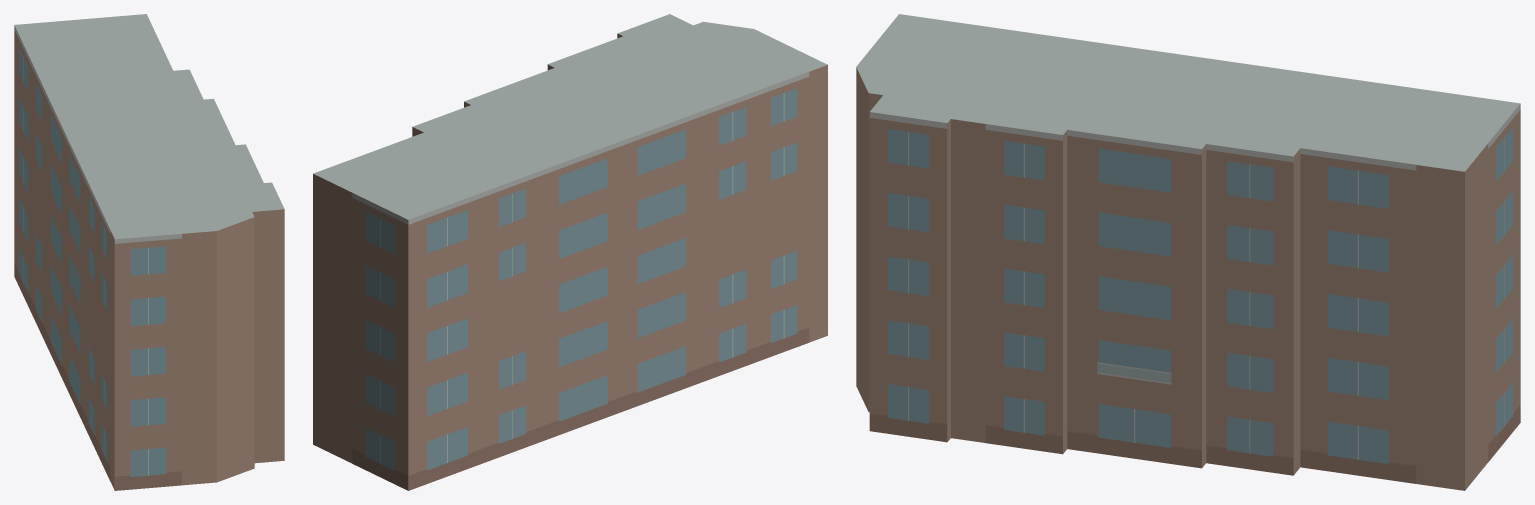
File: survey-upis-32610622.glb
3 renders of one model, left to right at view 1: azimuth 30°, elevation 25°; view 2: azimuth 150°, elevation 25°; view 3: azimuth 270°, elevation 25°, orthographic. The views are drawn at different scales.
Visible parts, largest first — view 1: survey-upis-32610622.tmp; view 2: survey-upis-32610622.tmp; view 3: survey-upis-32610622.tmp.
Boxes of the visible parts, left/top/right/bottom form: survey-upis-32610622.tmp: left=14, top=14, right=284, bottom=490; survey-upis-32610622.tmp: left=313, top=14, right=827, bottom=490; survey-upis-32610622.tmp: left=856, top=14, right=1520, bottom=490.
Size of the model in its own units: 14.21 by 13.4 by 25.29.
